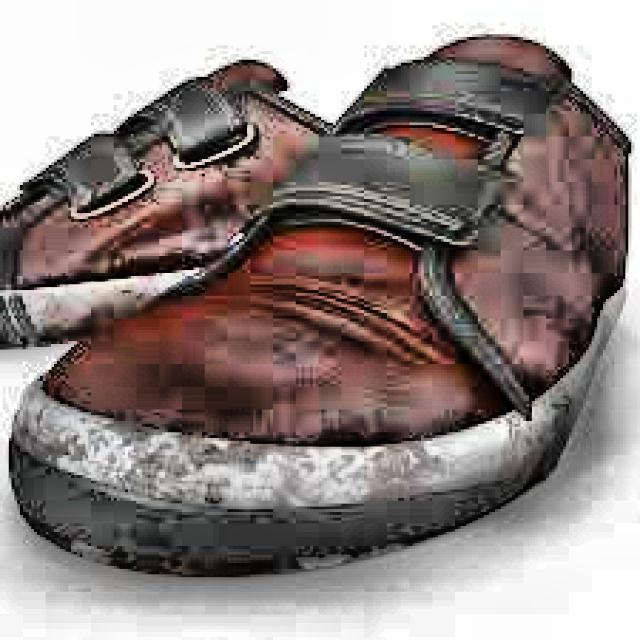shoes: (0, 43, 640, 547)
